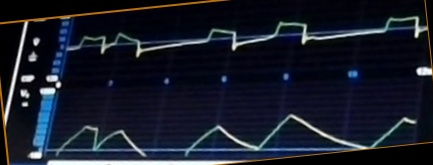Double_Triggering Flow: (74, 16, 428, 67)
Double_Triggering Volume: (55, 108, 417, 158)
